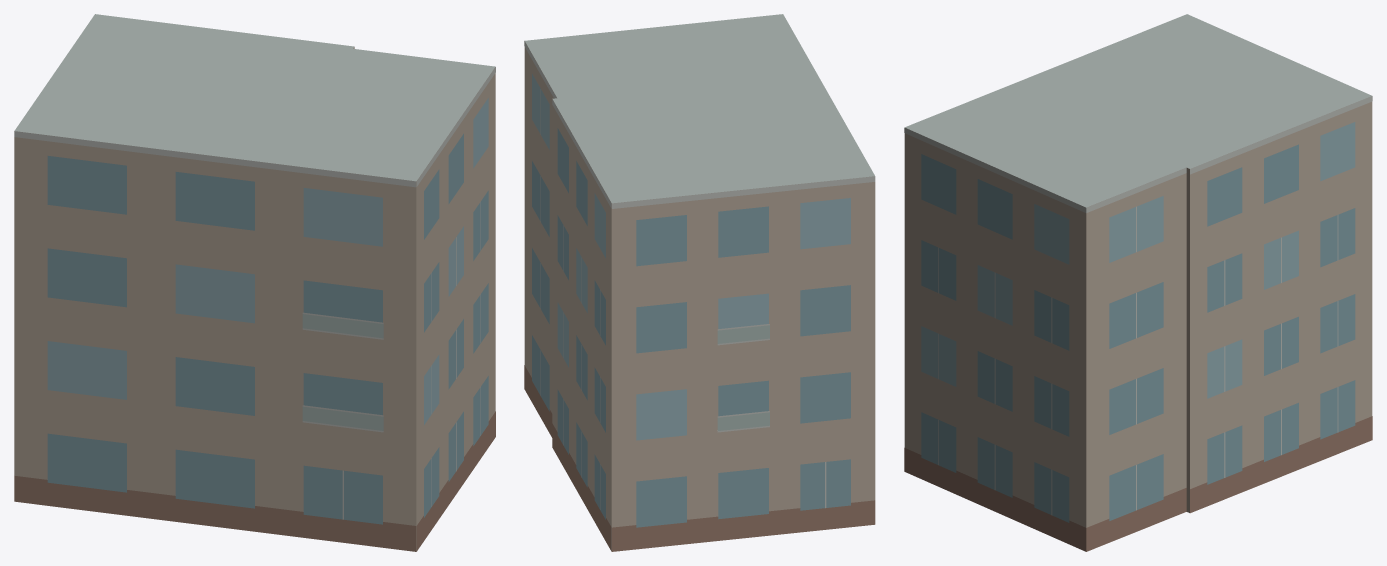
The model's file is survey-upis-32950525.glb.
3 views of the same model, side by side, from view 1: azimuth 30°, elevation 25°; view 2: azimuth 150°, elevation 25°; view 3: azimuth 270°, elevation 25° (orthographic). The views are drawn at different scales.
Visible parts, largest first — view 1: survey-upis-32950525.tmp; view 2: survey-upis-32950525.tmp; view 3: survey-upis-32950525.tmp.
Boxes of the visible parts, <box> form: survey-upis-32950525.tmp: <box>14,14,495,551</box>; survey-upis-32950525.tmp: <box>524,14,875,551</box>; survey-upis-32950525.tmp: <box>904,14,1372,551</box>.
Bounding box in the file's own units: 18.1 × 15 × 18.49.
